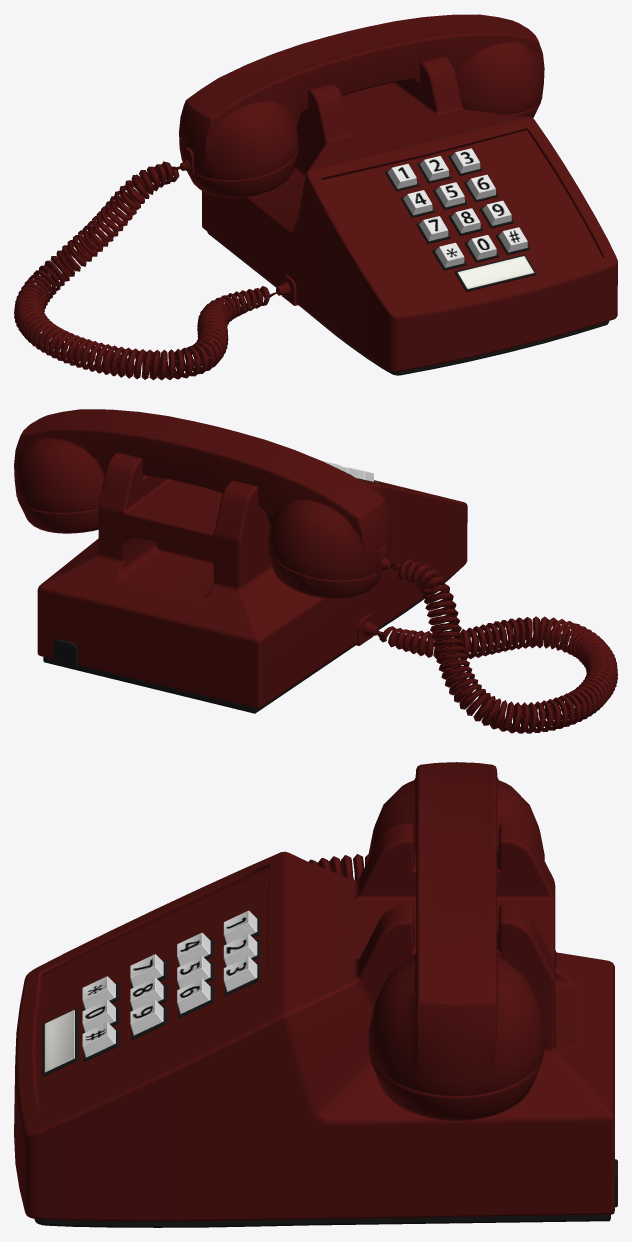
The model's file is telephone.fbx.
The picture shows the model from 3 angles, top to bottom: view 1: azimuth 30°, elevation 25°; view 2: azimuth 150°, elevation 25°; view 3: azimuth 270°, elevation 25°; orthographic projection. The views are drawn at different scales.
Visible parts, largest first — view 1: support tel, telephone, ToucheEntree, Touche7, Touche*, Touche8, Touche#, Touche0, Touche9, Touche6, Touche4, Touche2 (+3 smaller); view 2: support tel, telephone; view 3: support tel, telephone, ToucheEntree, Touche9, Touche#, Touche3, Touche6, Touche7, Touche*, Touche1, Touche4, Touche8 (+3 smaller).
Boxes of the visible parts, <box> form: support tel: <box>202,56,617,375</box>; telephone: <box>14,14,544,380</box>; ToucheEntree: <box>455,254,536,291</box>; Touche7: <box>416,216,450,243</box>; Touche*: <box>432,242,466,270</box>; Touche8: <box>448,208,482,235</box>; Touche#: <box>496,227,530,254</box>; Touche0: <box>464,235,498,262</box>; Touche9: <box>479,200,513,228</box>; Touche6: <box>464,174,498,202</box>; Touche4: <box>400,190,434,217</box>; Touche2: <box>417,156,451,183</box>; support tel: <box>37,452,467,713</box>; telephone: <box>14,409,617,733</box>; support tel: <box>14,823,617,1227</box>; telephone: <box>308,762,544,1120</box>; ToucheEntree: <box>42,1008,78,1076</box>; Touche9: <box>130,1000,167,1040</box>; Touche#: <box>82,1022,119,1061</box>; Touche3: <box>223,956,260,995</box>; Touche6: <box>177,978,213,1018</box>; Touche7: <box>130,954,167,988</box>; Touche*: <box>82,976,119,1010</box>; Touche1: <box>223,910,260,944</box>; Touche4: <box>177,932,213,966</box>; Touche8: <box>130,977,167,1010</box>.
Bounding box in the file's own units: 42.49 × 15.93 × 28.14.
Materials: 4 (1 with a texture image).
